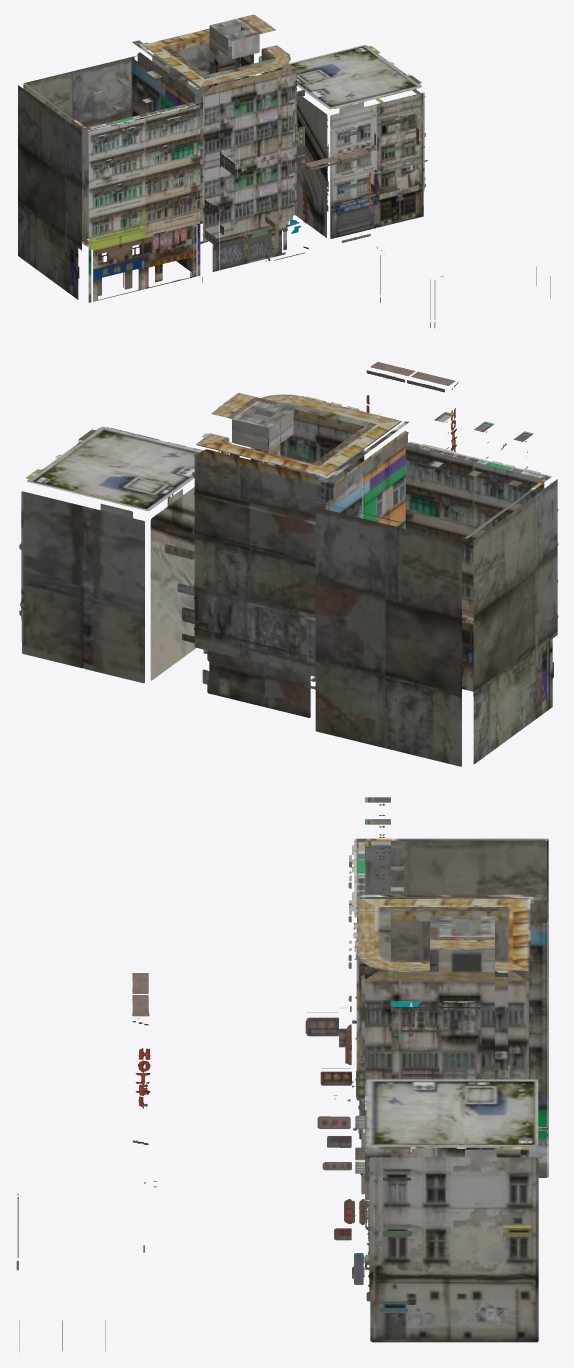
Rendered from block-hkiv-2-imp.glb.
The picture shows the model from 3 angles, top to bottom: view 1: azimuth 30°, elevation 25°; view 2: azimuth 150°, elevation 25°; view 3: azimuth 270°, elevation 25°; orthographic projection. The views are drawn at different scales.
Visible parts, largest first — view 1: block-hkiv-2-imp; view 2: block-hkiv-2-imp; view 3: block-hkiv-2-imp.
Part boxes in pixels (x1,y1,x2,y2): block-hkiv-2-imp: (18,14,550,328); block-hkiv-2-imp: (19,362,558,766); block-hkiv-2-imp: (16,797,548,1352).
Bounding box in the file's own units: 72 × 38.67 × 63.
Materials: 1 (1 with a texture image).
